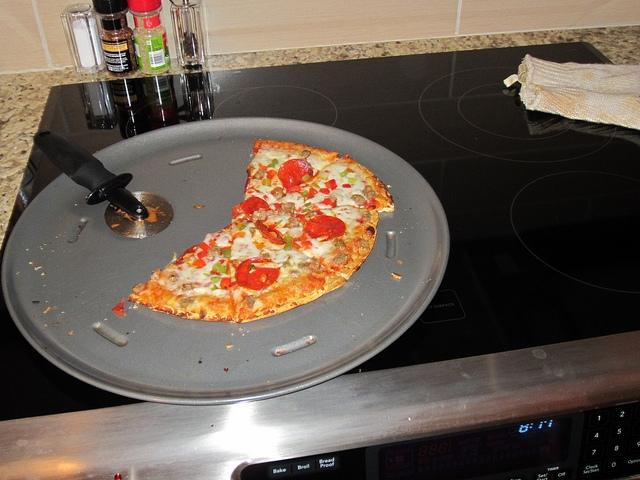bell pepper: (268, 228, 302, 250), (211, 263, 227, 274), (238, 221, 252, 231), (328, 179, 338, 190), (338, 169, 348, 178), (284, 241, 294, 250), (302, 174, 312, 183), (222, 248, 230, 258), (262, 178, 272, 186), (233, 232, 246, 238), (283, 236, 292, 243), (229, 278, 236, 287), (348, 178, 358, 184), (212, 277, 220, 284), (301, 190, 309, 197), (267, 162, 275, 168), (300, 217, 308, 223), (304, 202, 311, 208), (248, 264, 254, 270), (312, 184, 320, 188), (302, 208, 310, 212), (272, 159, 278, 164)
